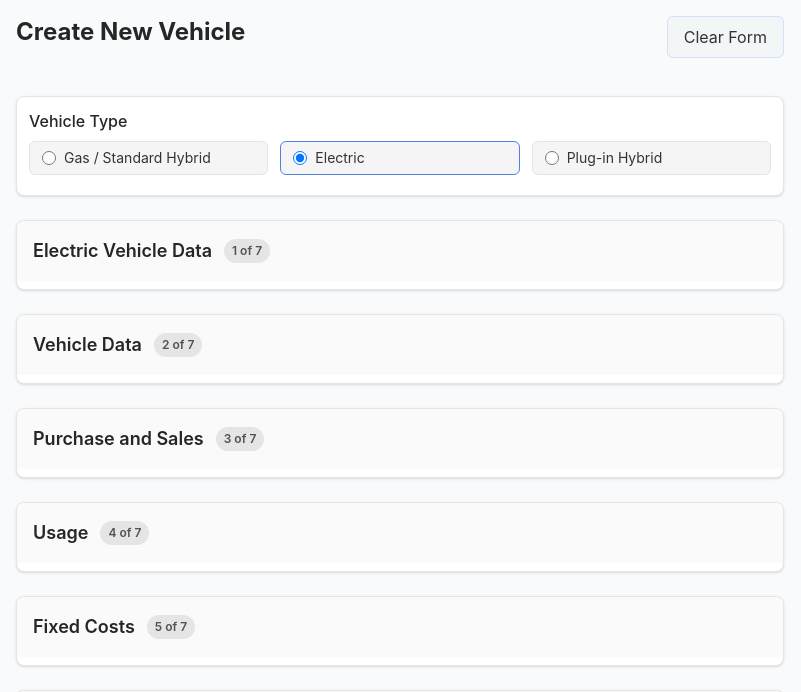
Test: VehicleCreationOrEditForm › shows hybrid vehicle form section when hybrid type is selected
// Select hybrid vehicle
What coordinates should you click on to do the following:
click the radio button labelled "Plug-in Hybrid"
I would click on:
 (552, 158)
Its box is [545,151,559,165].
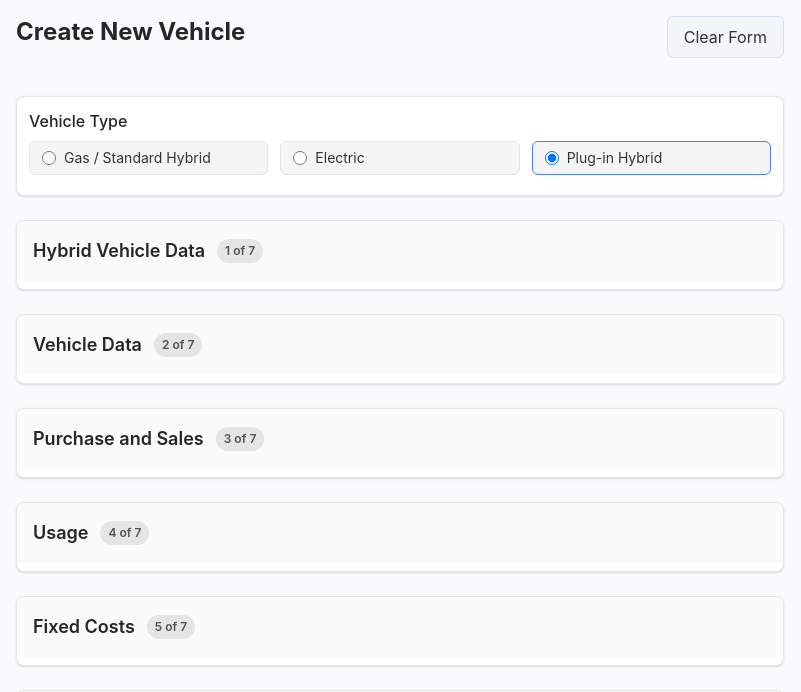
Check: the text "Hybrid Vehicle Data" is shown, box [33,237,205,265]
Check: the button "Electric Vehicle Data" is gone
